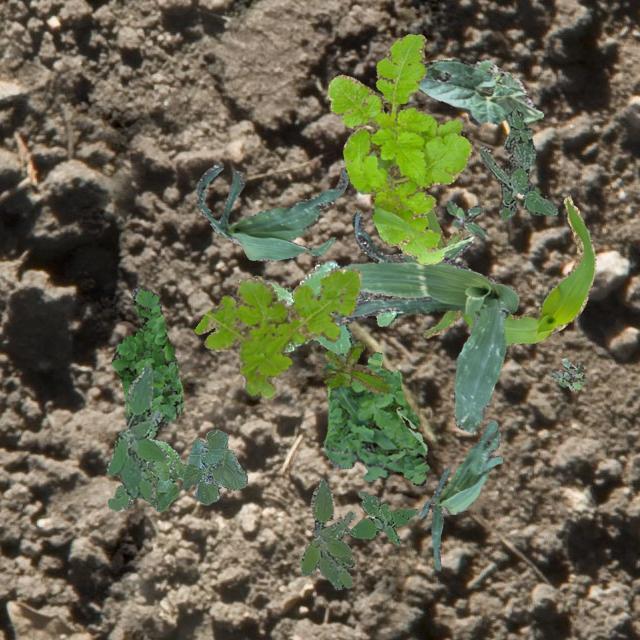crop: (330, 252, 518, 432), (422, 196, 594, 344), (194, 162, 348, 260), (418, 419, 502, 568), (417, 58, 542, 124), (350, 210, 472, 262), (180, 428, 247, 504)
weed: (326, 34, 471, 264), (192, 268, 360, 398), (322, 350, 428, 484), (264, 260, 404, 354), (110, 286, 182, 438), (478, 106, 556, 218), (106, 366, 166, 500), (300, 478, 354, 588), (106, 438, 186, 511), (348, 490, 418, 544), (322, 340, 389, 392), (446, 200, 486, 238), (548, 358, 586, 390)
